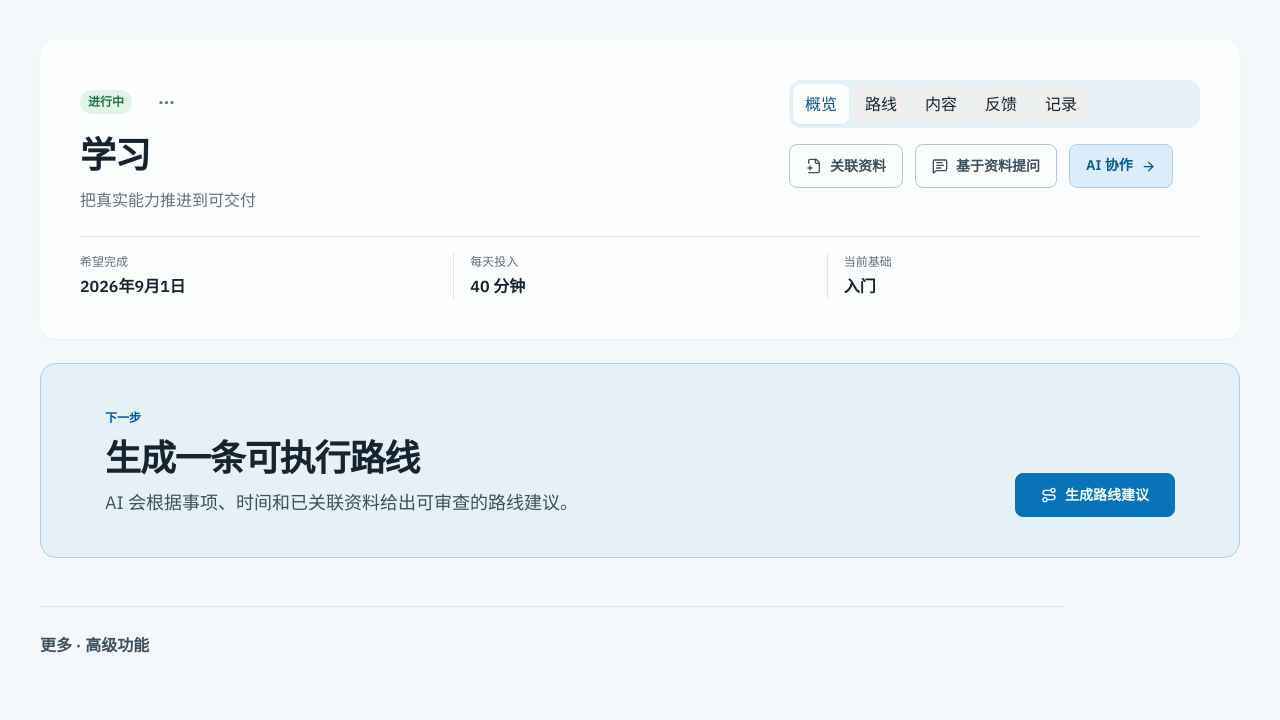
Scenario: Final usability closure · planning and items › deletes from detail and navigates to canonical planning index
This screenshot has width=1280, height=720.
Click the button named "管理事项 学习".
click(166, 102)  # box [144,80,188,124]
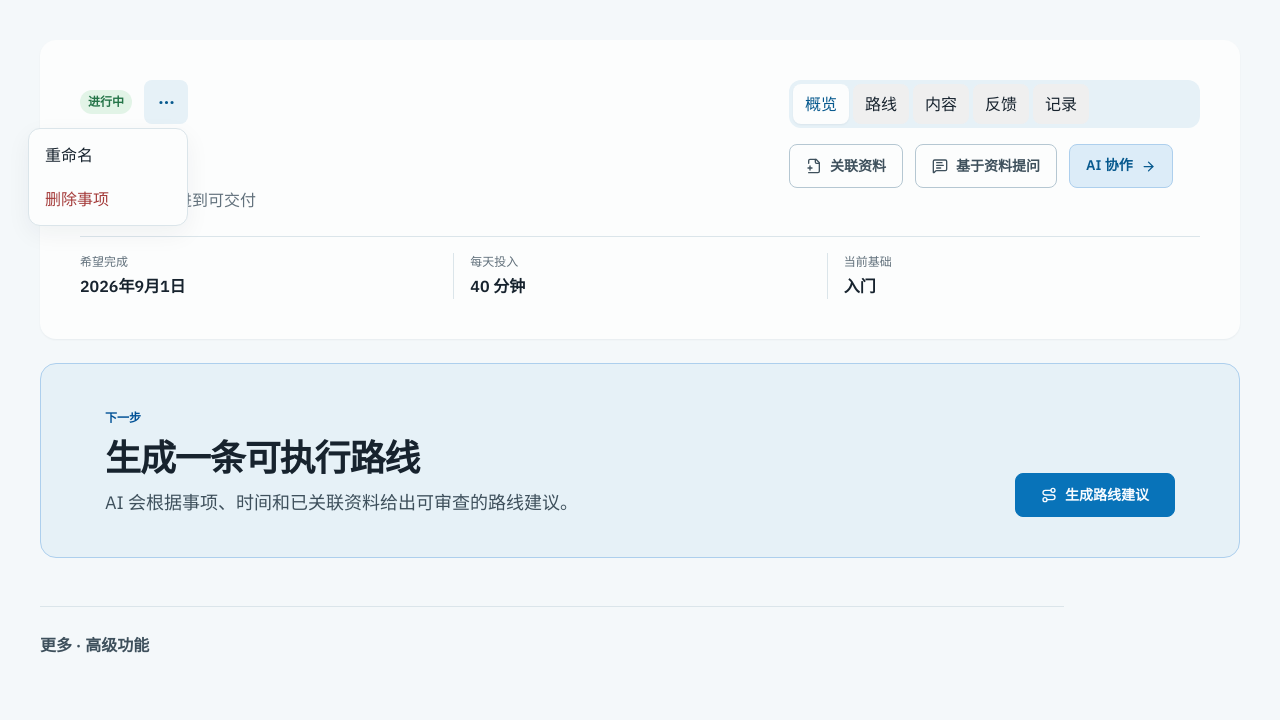
Click the menu item "删除事项".
click(108, 199)  # box [33,177,183,221]
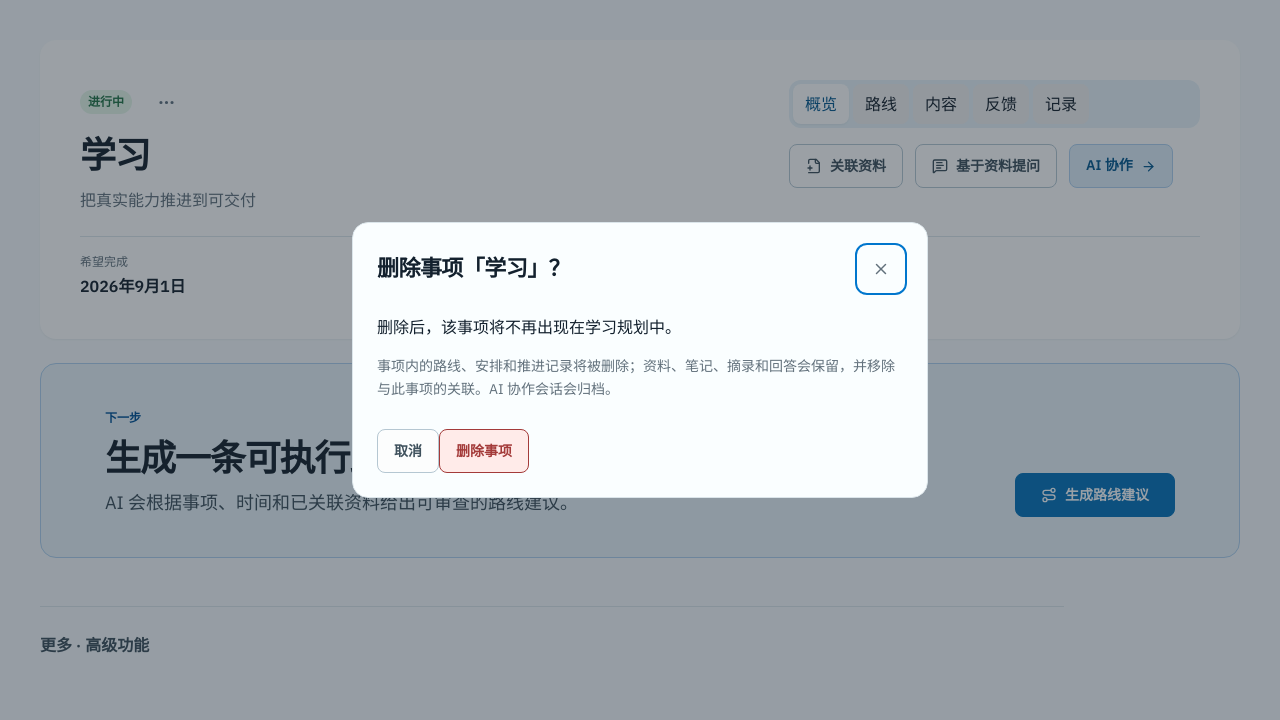
Click the button "删除事项".
click(484, 452)  # box [439,430,529,474]
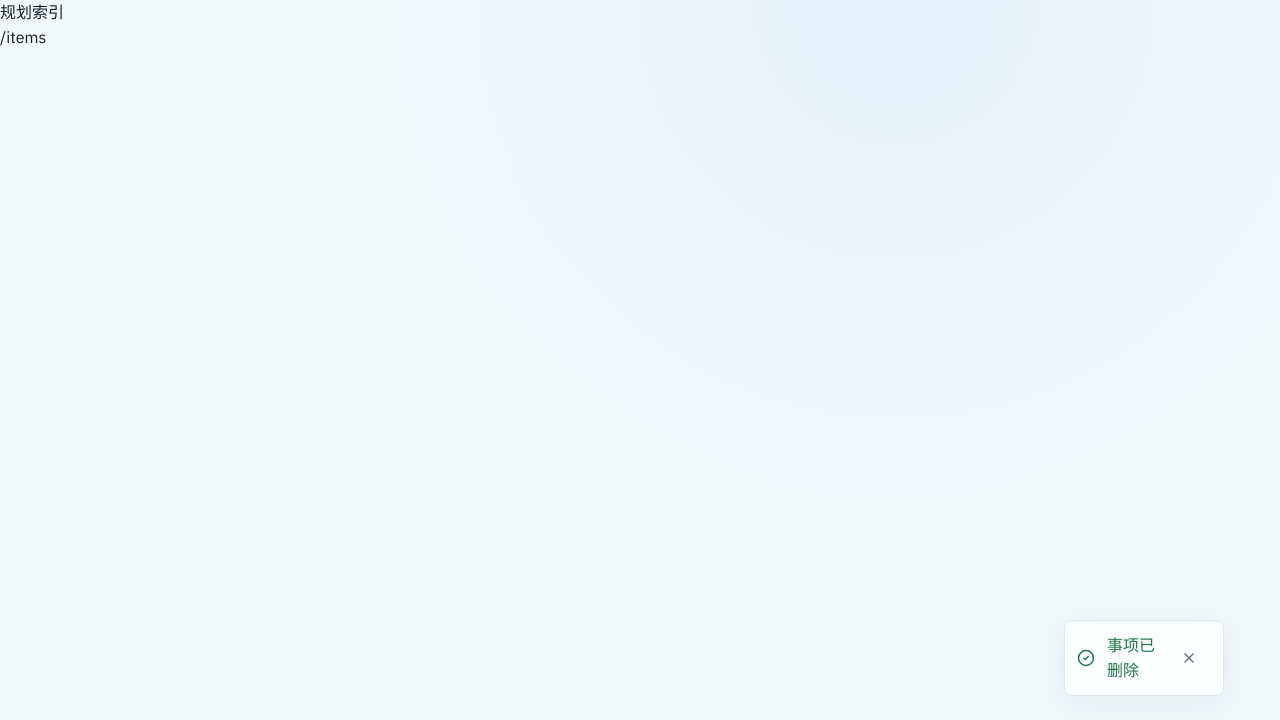
Expected: the text with test id "location" reads "/items", [0,27,46,47]
Expected: the text "规划索引" is shown, [0,2,64,22]
